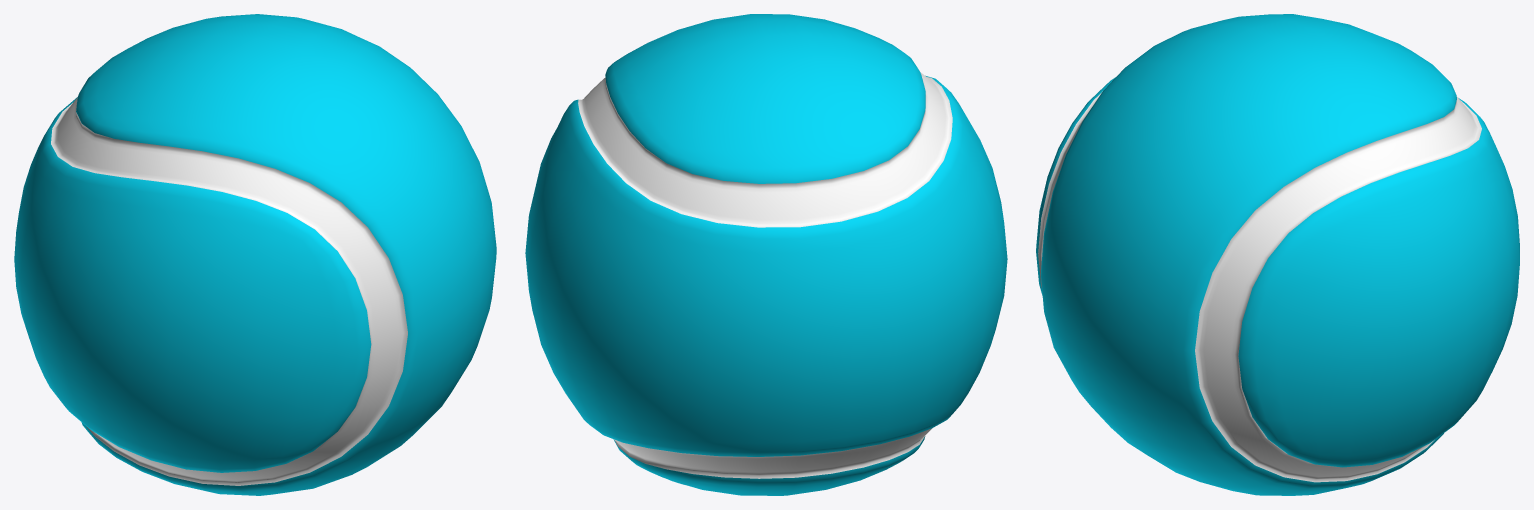
Rendered from tennis_ball_blue.glb.
3 renders of one model, left to right at view 1: azimuth 30°, elevation 25°; view 2: azimuth 150°, elevation 25°; view 3: azimuth 270°, elevation 25°, orthographic.
Visible parts, largest first — view 1: ball 2, ball line001; view 2: ball 2, ball line001; view 3: ball 2, ball line001.
Part boxes in pixels (left/top/right/bottom): ball 2: left=14, top=14, right=496, bottom=495; ball line001: left=51, top=97, right=407, bottom=485; ball 2: left=525, top=14, right=1007, bottom=495; ball line001: left=578, top=72, right=952, bottom=478; ball 2: left=1036, top=14, right=1519, bottom=495; ball line001: left=1038, top=91, right=1481, bottom=482.
Size of the model in its own units: 1.08 by 1.07 by 1.08.
